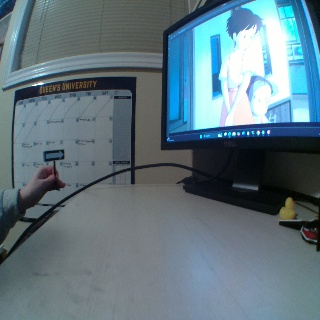sign_oneway_right: (43, 149, 67, 160)
